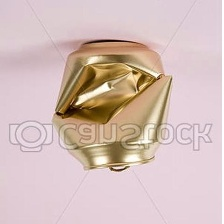can: (52, 36, 173, 173)
